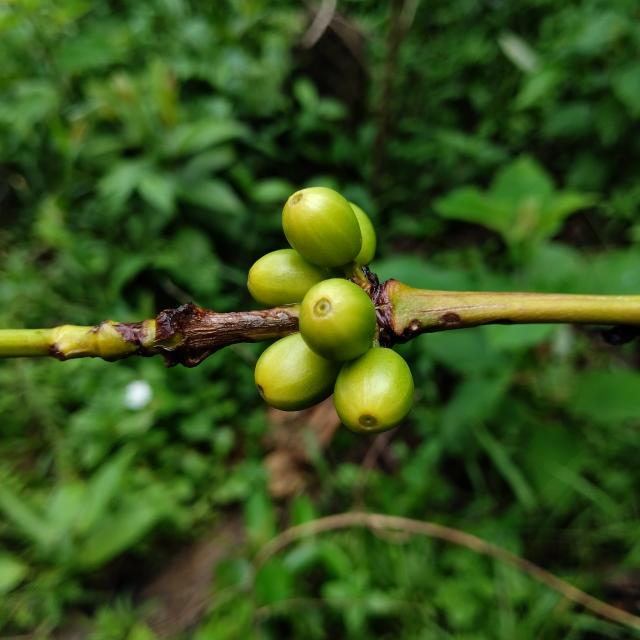green: (334, 347, 415, 435), (255, 333, 343, 412), (282, 187, 362, 267), (299, 278, 376, 361), (247, 249, 329, 308), (349, 202, 377, 266)
